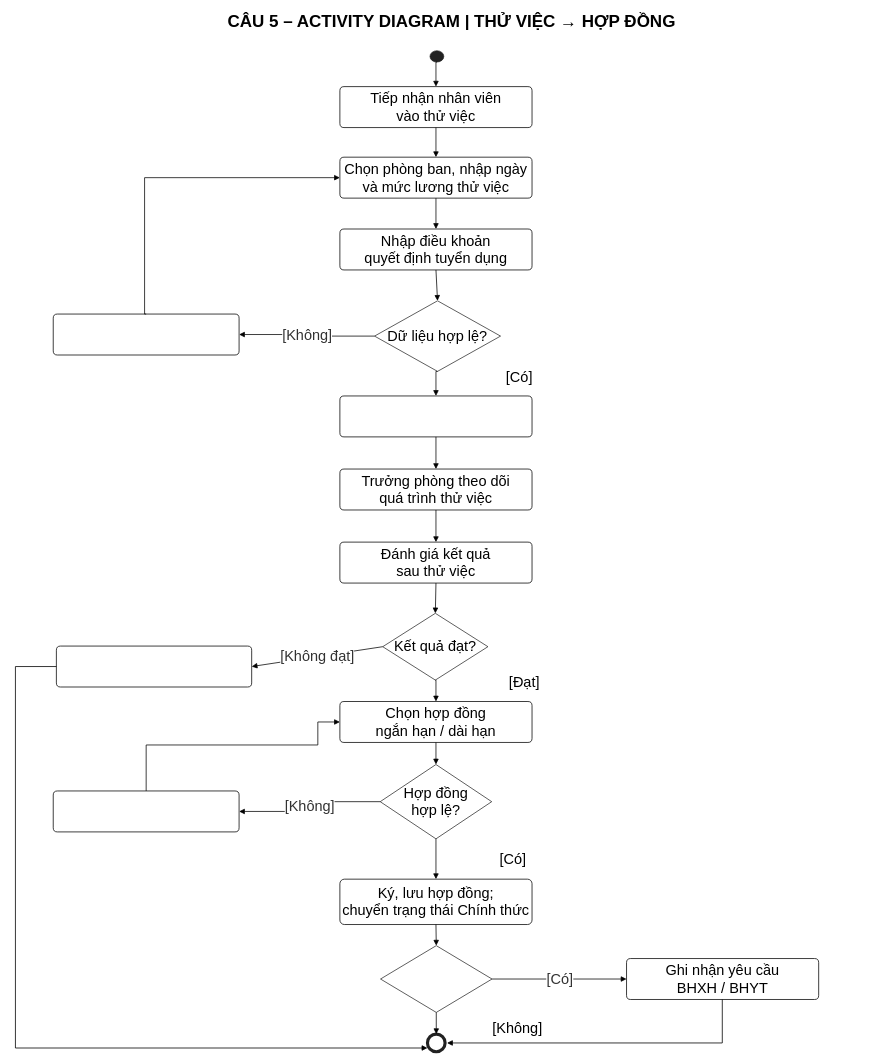
The diagram is 880 pixels wide and 1064 high, and some of its shapes have lost their labels. The centre of each missing label's shape, as x and y in pixels:
Ghi nhận không đạt, không lập hợp đồng: (154,666)
Hợp đồng dài hạn?: (436,978)
Lập quyết định tuyển dụng: (435,416)
Thông báo lỗi hợp đồng: (146,811)
Thông báo lỗi, nhập lại thông tin: (146,334)
